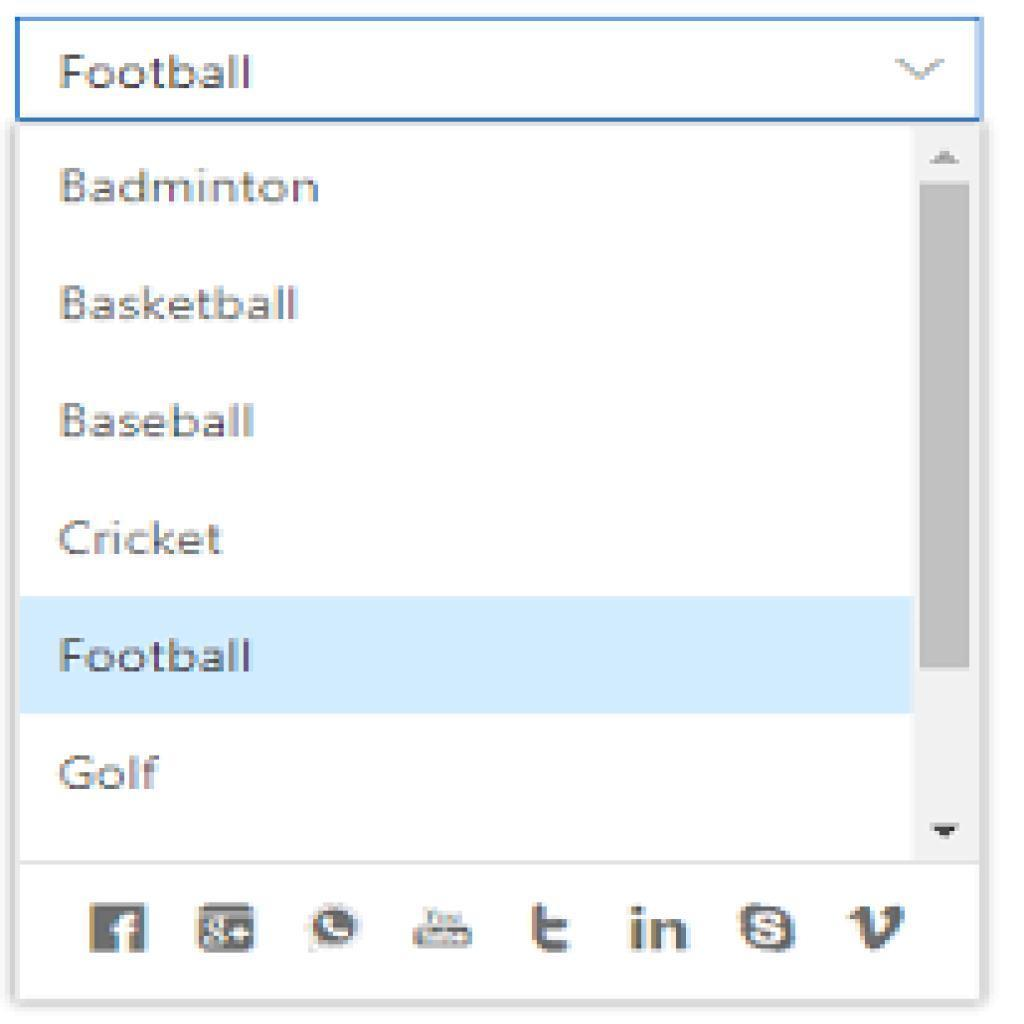dropdown: (16, 20, 979, 118)
icon: (294, 892, 382, 971), (71, 893, 166, 963), (187, 891, 268, 969), (395, 896, 489, 960), (620, 899, 698, 967), (848, 900, 924, 961), (745, 901, 814, 967), (522, 901, 578, 965)
